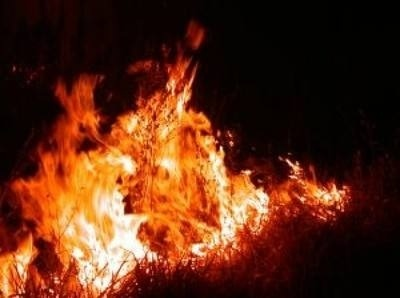fire: (7, 39, 336, 275)
